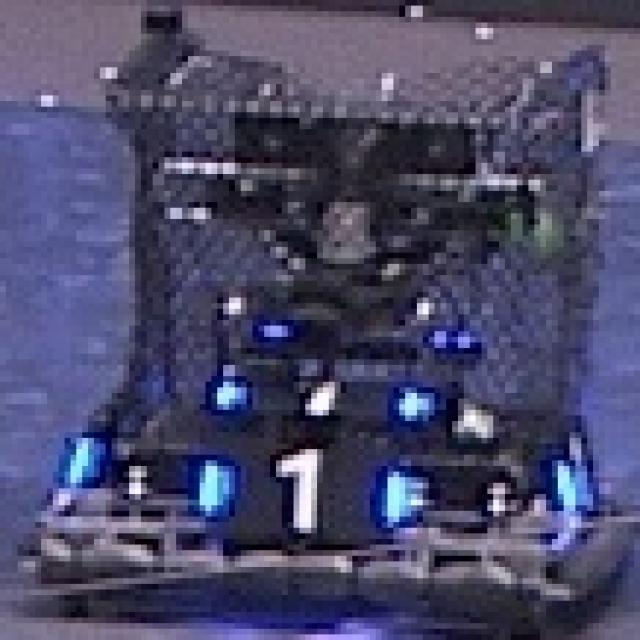B1: (194, 444, 411, 534)
